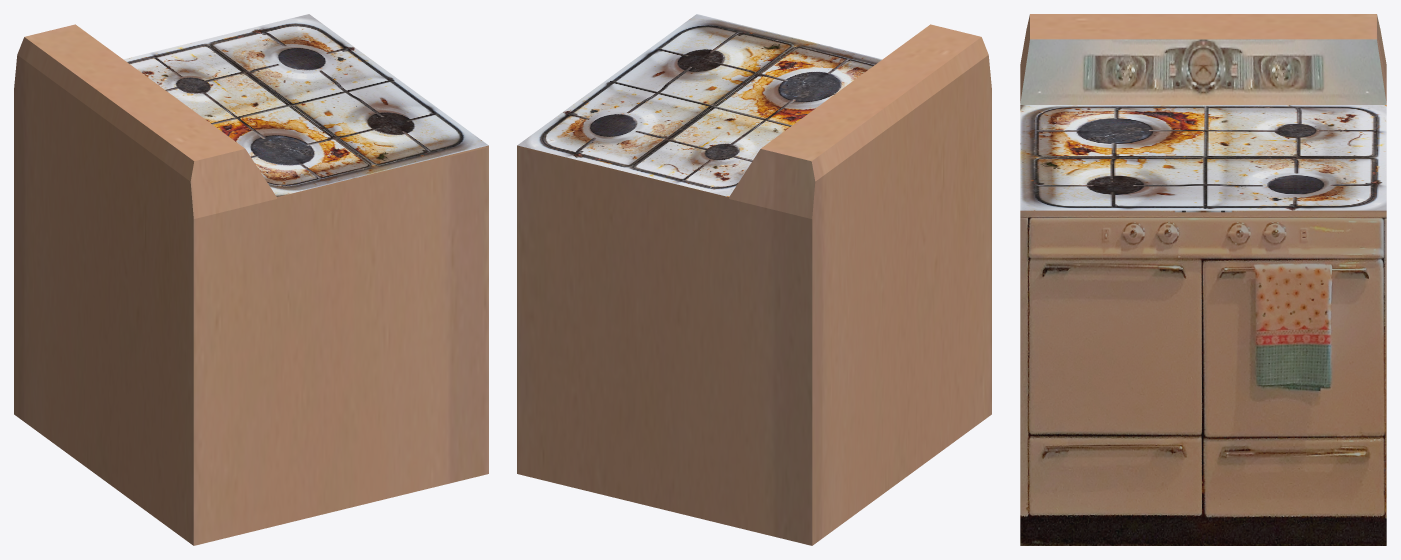
Rendered from oven.fbx.
The picture shows the model from 3 angles, left to right: view 1: azimuth 30°, elevation 25°; view 2: azimuth 150°, elevation 25°; view 3: azimuth 270°, elevation 25°; orthographic projection. The views are drawn at different scales.
Visible parts, largest first — view 1: Cube; view 2: Cube; view 3: Cube.
Part boxes in pixels (bbox=[...]): Cube: bbox=[14, 14, 488, 545]; Cube: bbox=[517, 14, 991, 545]; Cube: bbox=[1020, 14, 1386, 545].
Size of the model in its own units: 218 by 268 by 230.
Materials: 1 (1 with a texture image).
